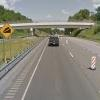Bridge: (10, 17, 100, 32)
